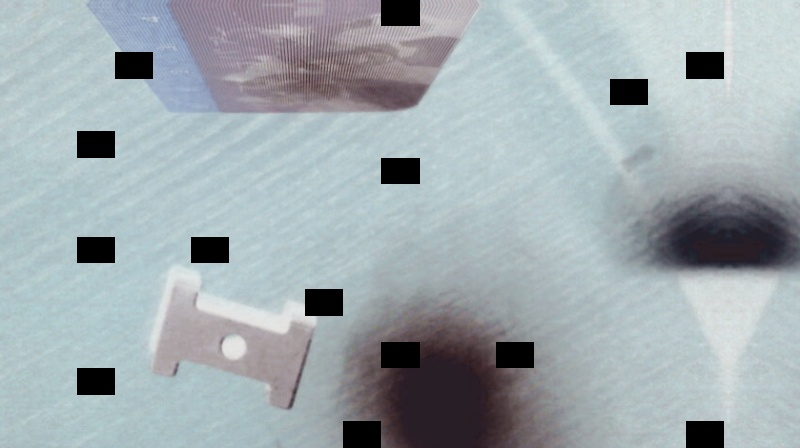O002: (145, 266, 318, 411)
